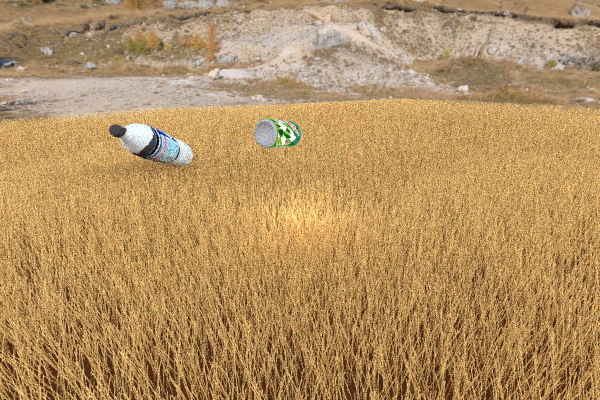bottle: (109, 123, 192, 167)
can: (274, 145, 385, 215), (254, 118, 301, 148)
